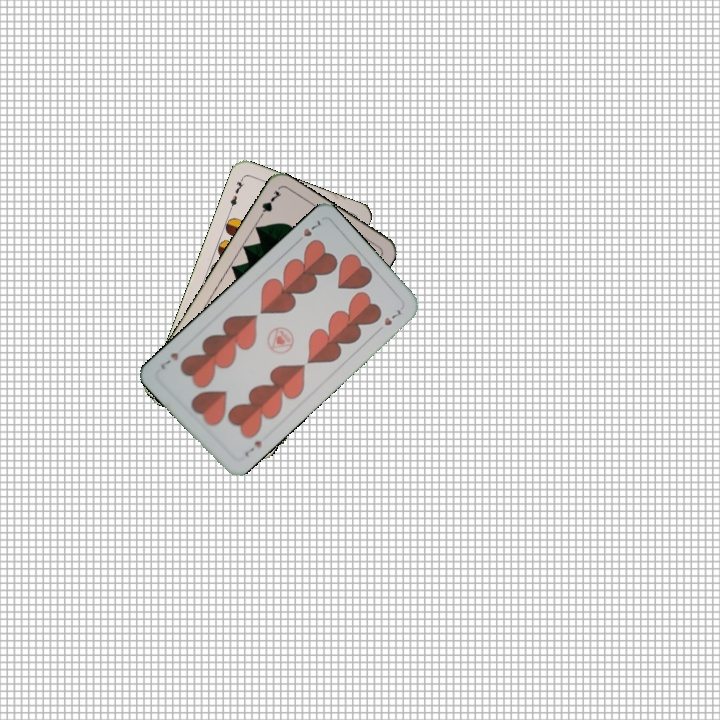E7: (225, 174, 246, 213)
G7: (254, 186, 284, 222)
H7: (292, 216, 323, 247), (240, 437, 264, 459)
